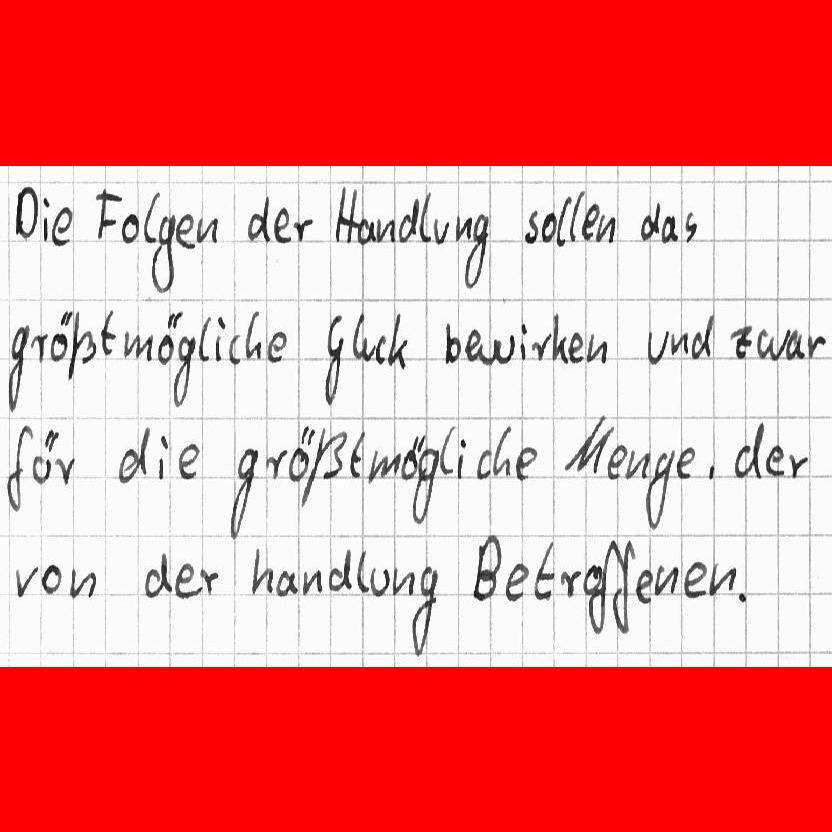Char: (302, 423, 347, 505), (227, 445, 256, 542), (408, 564, 438, 657), (3, 322, 32, 414), (565, 415, 609, 474), (646, 446, 674, 532), (3, 425, 31, 510), (320, 311, 344, 410), (610, 541, 634, 638), (410, 443, 438, 525), (460, 213, 489, 289), (65, 310, 96, 381), (471, 534, 501, 602), (731, 418, 764, 479), (150, 211, 174, 293), (172, 334, 197, 409), (119, 426, 151, 484), (155, 307, 183, 368), (585, 559, 606, 632), (92, 187, 119, 243), (142, 549, 172, 599), (287, 425, 312, 481), (334, 186, 358, 243), (532, 539, 555, 598), (32, 426, 55, 484), (477, 332, 516, 366), (49, 309, 73, 362), (15, 184, 37, 241), (246, 193, 270, 244), (249, 545, 273, 595), (491, 423, 512, 478), (400, 434, 424, 481), (368, 449, 402, 482), (67, 565, 97, 602), (398, 194, 420, 244), (140, 190, 160, 243), (328, 548, 351, 593), (503, 561, 528, 602), (389, 311, 406, 370), (692, 313, 712, 362), (551, 311, 569, 365), (123, 328, 151, 362), (645, 326, 669, 365), (243, 310, 262, 359), (708, 561, 733, 598), (639, 199, 661, 241), (682, 559, 705, 599), (176, 441, 199, 481), (352, 312, 370, 363), (174, 562, 198, 600), (757, 326, 783, 361), (555, 194, 572, 247), (442, 319, 462, 364), (606, 442, 629, 481), (624, 448, 651, 480), (390, 565, 415, 599), (417, 190, 433, 243), (99, 309, 117, 356), (730, 326, 753, 360), (53, 204, 71, 247), (196, 214, 220, 246), (572, 197, 589, 242), (440, 425, 454, 479), (14, 565, 37, 597), (196, 314, 211, 363), (515, 444, 536, 479), (765, 443, 785, 479), (267, 329, 288, 363), (656, 564, 678, 596), (585, 333, 607, 365), (272, 207, 291, 244), (373, 215, 396, 245), (349, 433, 365, 476), (581, 203, 599, 241), (41, 562, 61, 596), (266, 449, 286, 483), (454, 431, 468, 479), (175, 213, 194, 248), (634, 568, 653, 603), (300, 568, 323, 596), (370, 566, 390, 597), (676, 445, 694, 479), (465, 328, 483, 362), (558, 567, 579, 596), (786, 450, 807, 479), (804, 330, 825, 359), (786, 327, 804, 360), (56, 455, 75, 486), (275, 569, 296, 597), (356, 550, 370, 592), (157, 433, 169, 481), (597, 212, 615, 244), (30, 331, 48, 363), (119, 214, 138, 244), (432, 216, 451, 246), (454, 214, 473, 244), (200, 568, 220, 596), (474, 449, 491, 481), (371, 332, 388, 363), (672, 328, 690, 357), (531, 335, 550, 362), (42, 191, 52, 241), (682, 212, 697, 244), (226, 335, 242, 365), (568, 331, 583, 363), (541, 212, 556, 243), (525, 210, 539, 243), (294, 215, 311, 242), (216, 316, 226, 361), (662, 214, 677, 242), (358, 215, 372, 245), (518, 322, 527, 363), (705, 458, 718, 482), (735, 587, 748, 608)
